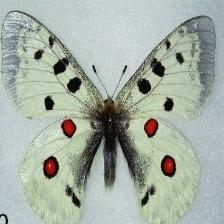butterfly: (1, 11, 216, 224)
